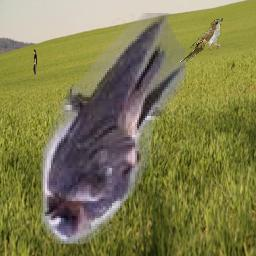Cuckoo: (179, 18, 223, 62)
Swallow: (38, 14, 186, 245)
